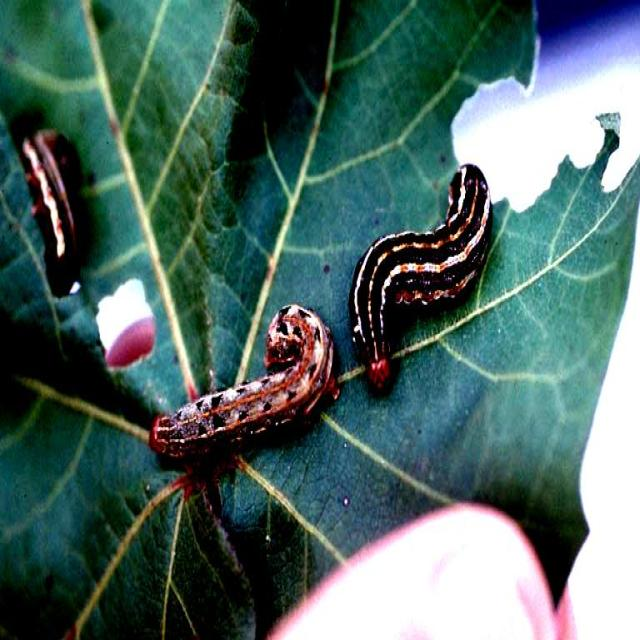armyworm: (348, 161, 493, 391), (148, 301, 339, 463)
